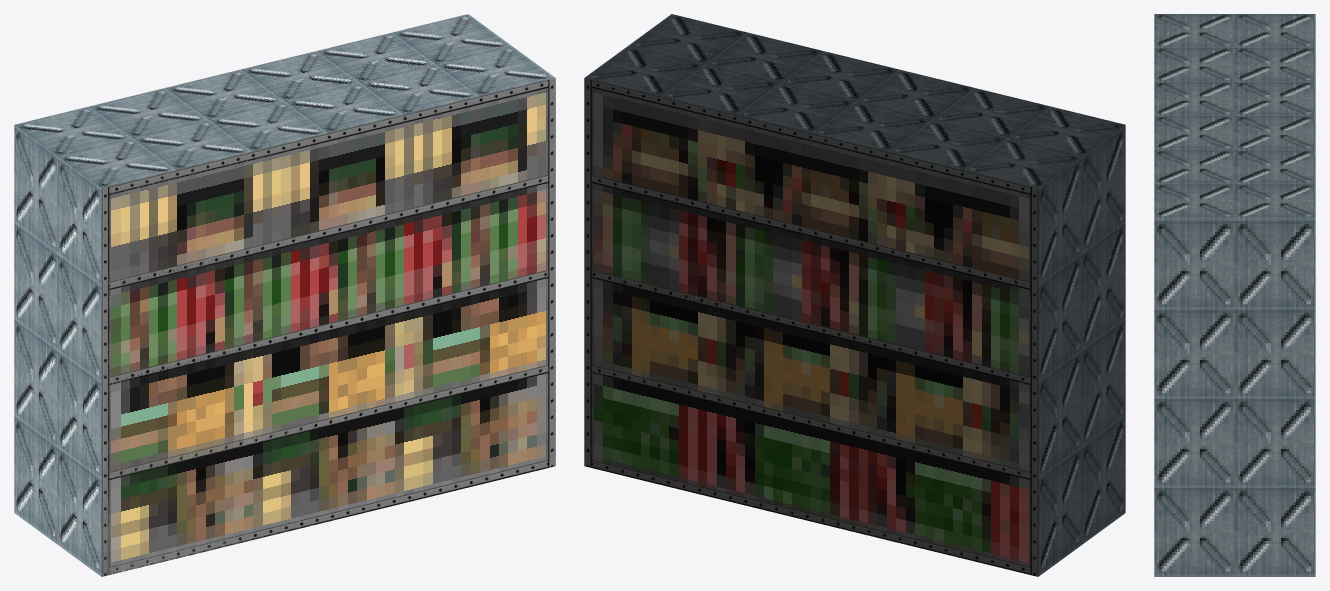
File: Pbookshelf1Z.obj
3 views of the same model, side by side, from view 1: azimuth 30°, elevation 25°; view 2: azimuth 150°, elevation 25°; view 3: azimuth 270°, elevation 25° (orthographic). The views are drawn at different scales.
Bounding box in the file's own units: 1750 × 1430 × 584.
Materials: 13 (13 with a texture image).
